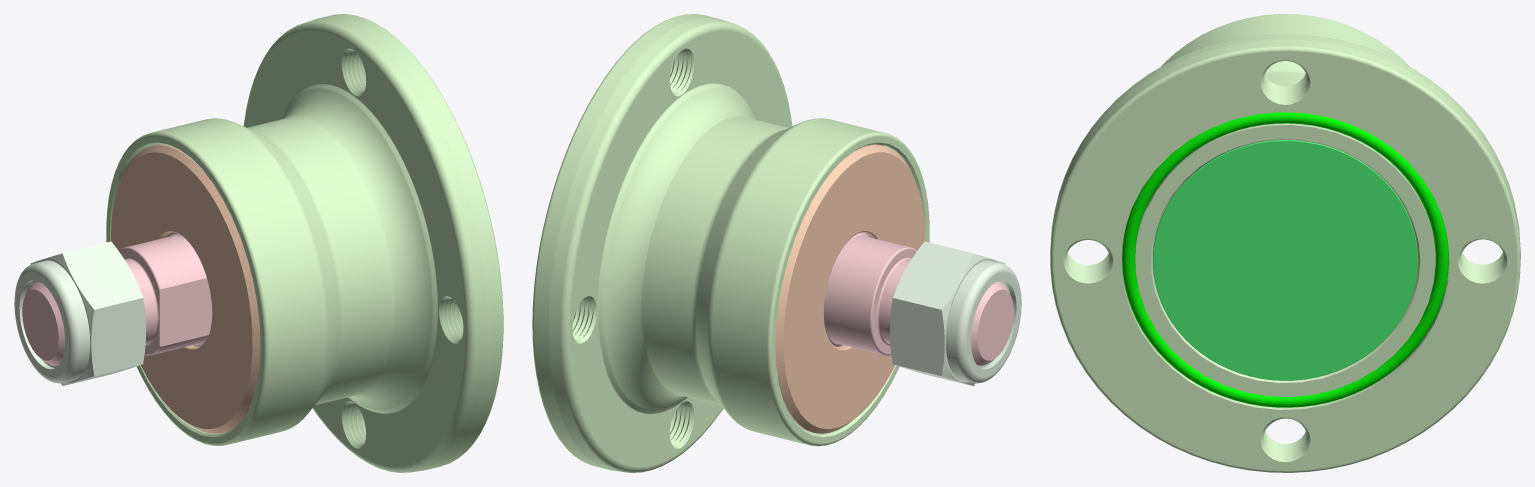
Rendered from baa-0004-vx.glb.
The picture shows the model from 3 angles, left to right: view 1: azimuth 30°, elevation 25°; view 2: azimuth 150°, elevation 25°; view 3: azimuth 270°, elevation 25°; orthographic projection.
Visible parts, largest first — view 1: color-2, satin finish nickel, color-8, carbon steel; view 2: color-2, satin finish nickel, color-8, carbon steel; view 3: color-2, white-pw-mt11050, color-7.
Part boxes in pixels (x1,y1,x2,y2): color-2: [106, 14, 503, 472]; satin finish nickel: [111, 144, 260, 433]; color-8: [14, 241, 146, 385]; carbon steel: [22, 232, 212, 366]; color-2: [532, 14, 929, 472]; satin finish nickel: [775, 144, 924, 433]; color-8: [890, 241, 1021, 386]; carbon steel: [824, 232, 1013, 365]; color-2: [1050, 14, 1520, 472]; white-pw-mt11050: [1153, 140, 1418, 380]; color-7: [1122, 112, 1448, 407].
Bounding box in the file's own units: 0.1018 × 0.117 × 0.117.
